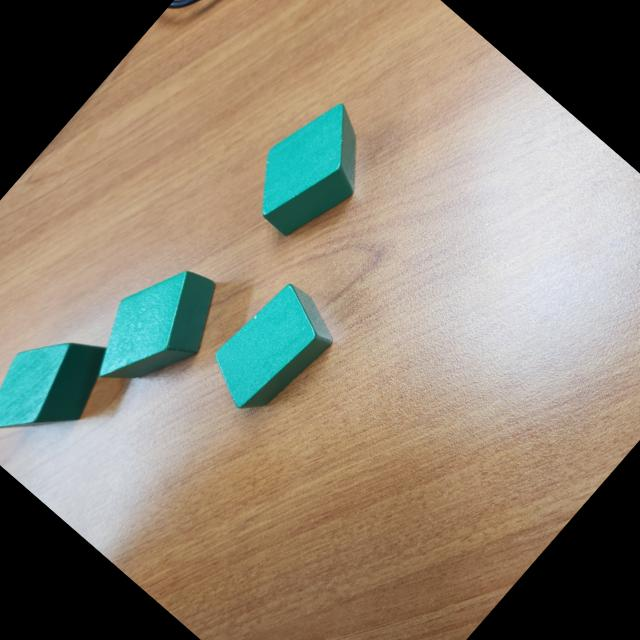green: (72, 243, 240, 416), (230, 86, 395, 254), (197, 274, 345, 427), (0, 304, 129, 476)
